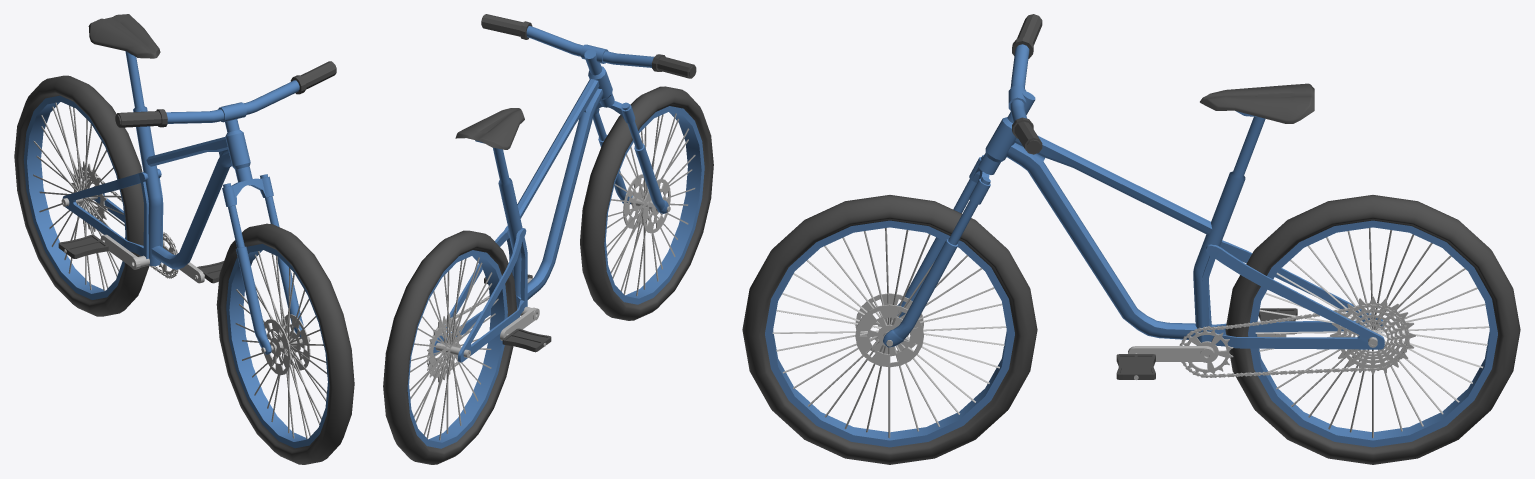
Rendered from BicycleA.fbx.
3 renders of one model, left to right at view 1: azimuth 30°, elevation 25°; view 2: azimuth 150°, elevation 25°; view 3: azimuth 270°, elevation 25°, orthographic. The views are drawn at different scales.
Parts seen in each view (by area): view 1: bike_blinn1_0; view 2: bike_blinn1_0; view 3: bike_blinn1_0.
Part boxes in pixels (x1=…): bike_blinn1_0: x1=14, y1=14, x2=354, y2=464; bike_blinn1_0: x1=383, y1=14, x2=713, y2=464; bike_blinn1_0: x1=742, y1=14, x2=1520, y2=464.
Bounding box in the file's own units: 0.59 × 0.8454 × 1.54.
